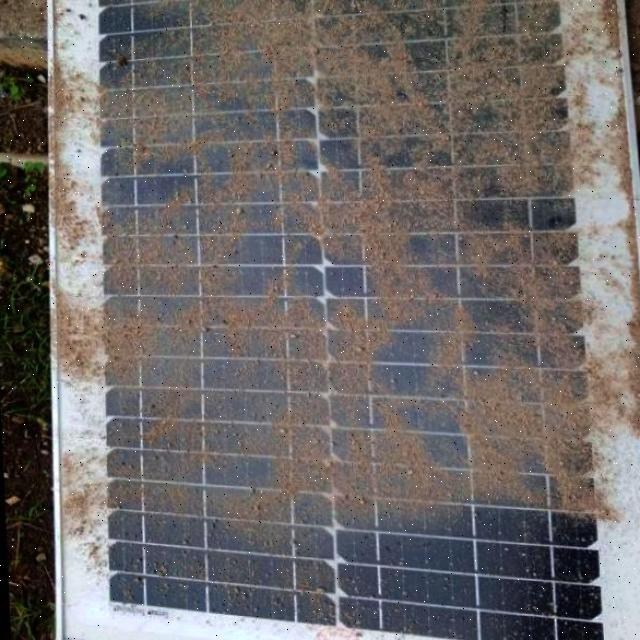Surface Contaminant: (64, 0, 615, 593)
